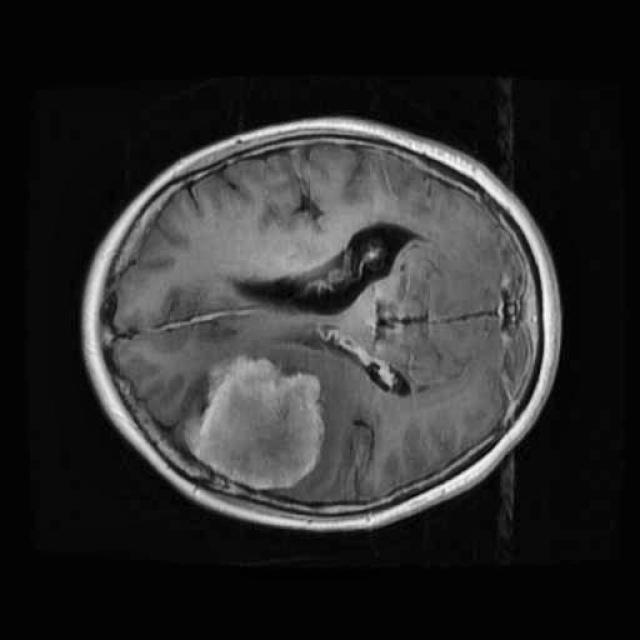Tumor: (189, 340, 331, 502)
